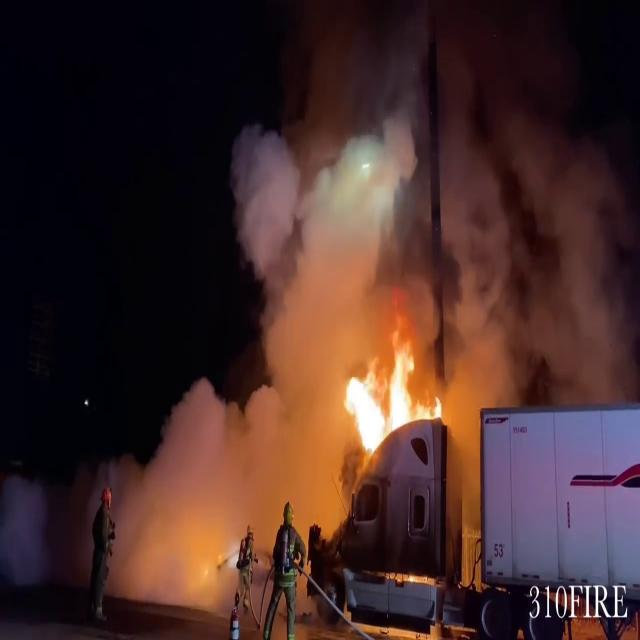Fire: (340, 338, 438, 460)
Smoke: (226, 1, 636, 395), (71, 103, 378, 619)
